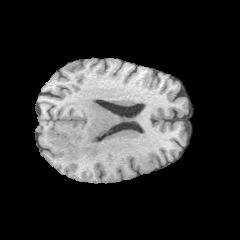glioma: (49, 102, 123, 161)
